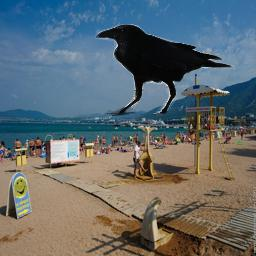Crow: (95, 24, 235, 117)
